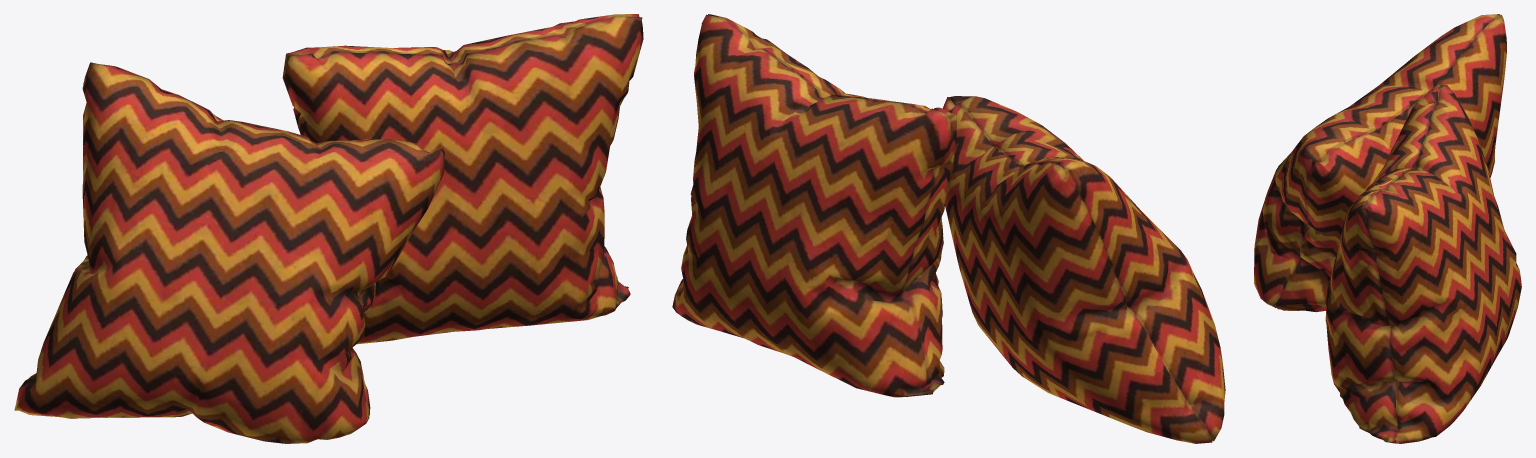
The model's file is throw_pillows_01.glb.
3 views of the same model, side by side, from view 1: azimuth 30°, elevation 25°; view 2: azimuth 150°, elevation 25°; view 3: azimuth 270°, elevation 25° (orthographic). The views are drawn at different scales.
Visible parts, largest first — view 1: throw_pillows_01_pillow02; view 2: throw_pillows_01_pillow02; view 3: throw_pillows_01_pillow02.
Part boxes in pixels (bbox=[...]): throw_pillows_01_pillow02: bbox=[14, 14, 643, 443]; throw_pillows_01_pillow02: bbox=[672, 14, 1225, 443]; throw_pillows_01_pillow02: bbox=[1254, 14, 1521, 443].
Bounding box in the file's own units: 0.9401 × 0.4501 × 0.4504.
Materials: 1 (1 with a texture image).
